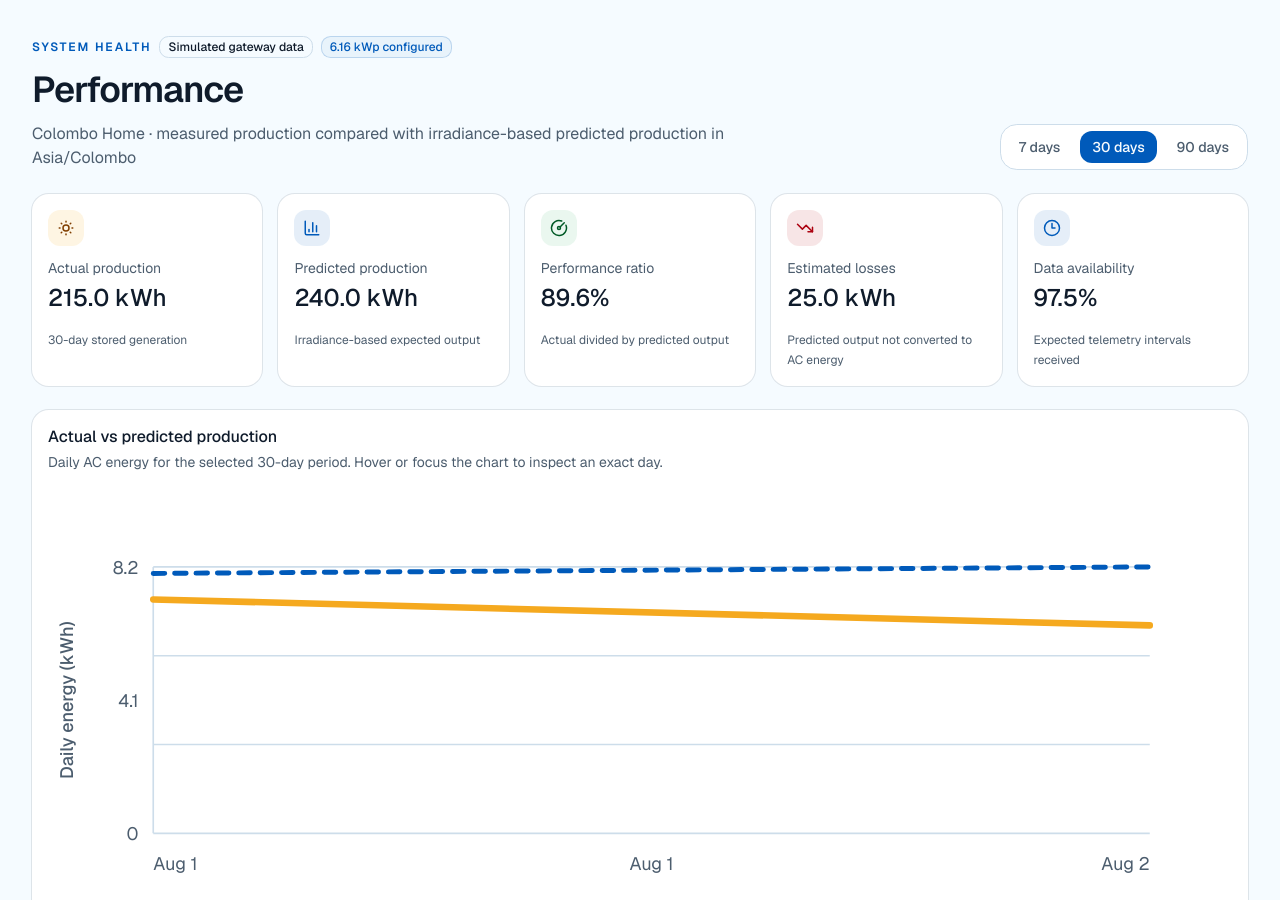
it: PerformanceDashboard › shows distinct actual and predicted values and places array health below the full-width chart
The image size is (1280, 900).
Hover over the slider named "actual and predicted generation".
mouse_move(651, 700)  # box x1=153 y1=567 x2=1150 y2=833
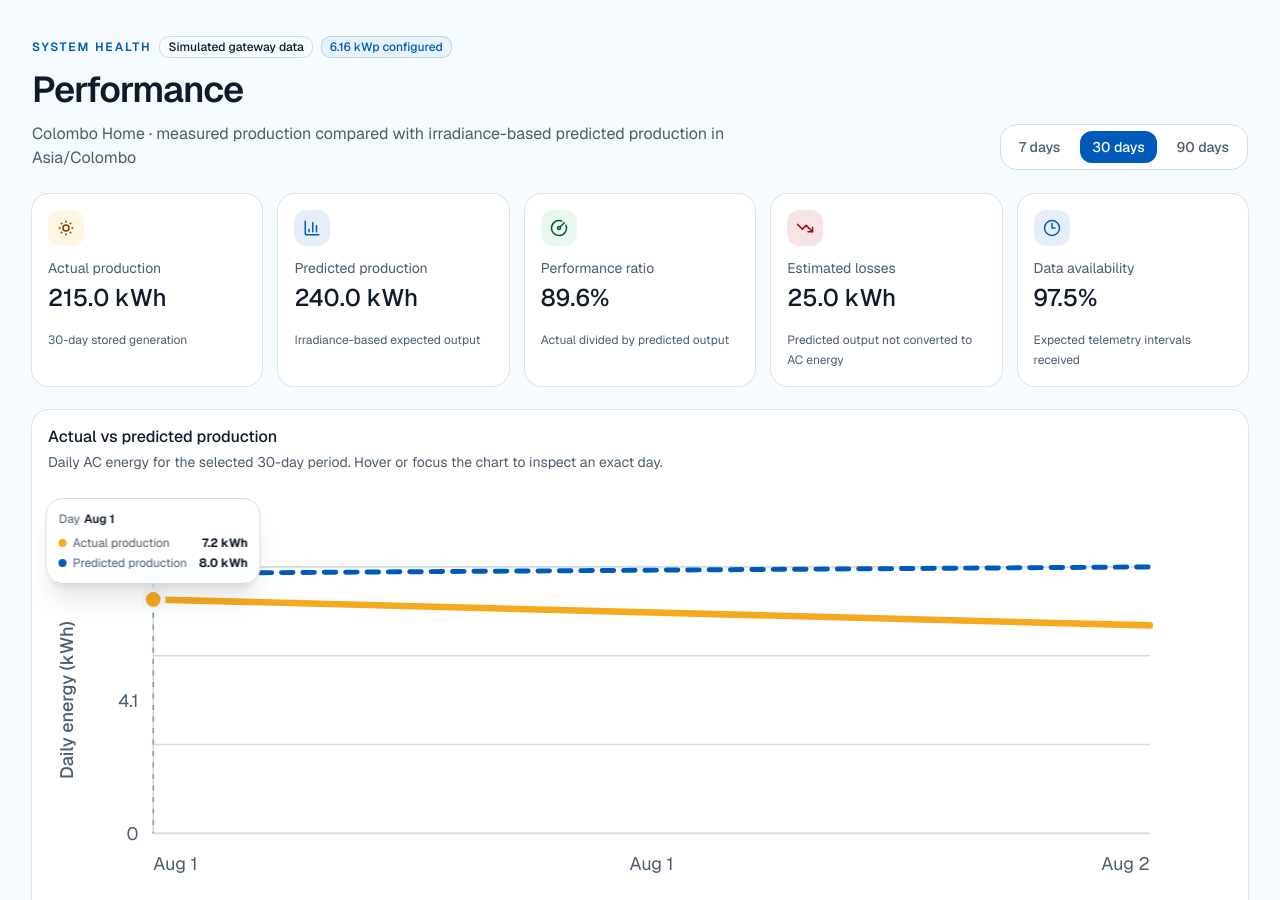
Expected: the message shows "DayAug 1", x1=46 y1=498 x2=261 y2=584
